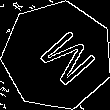M_SW: (23, 22, 92, 90)
